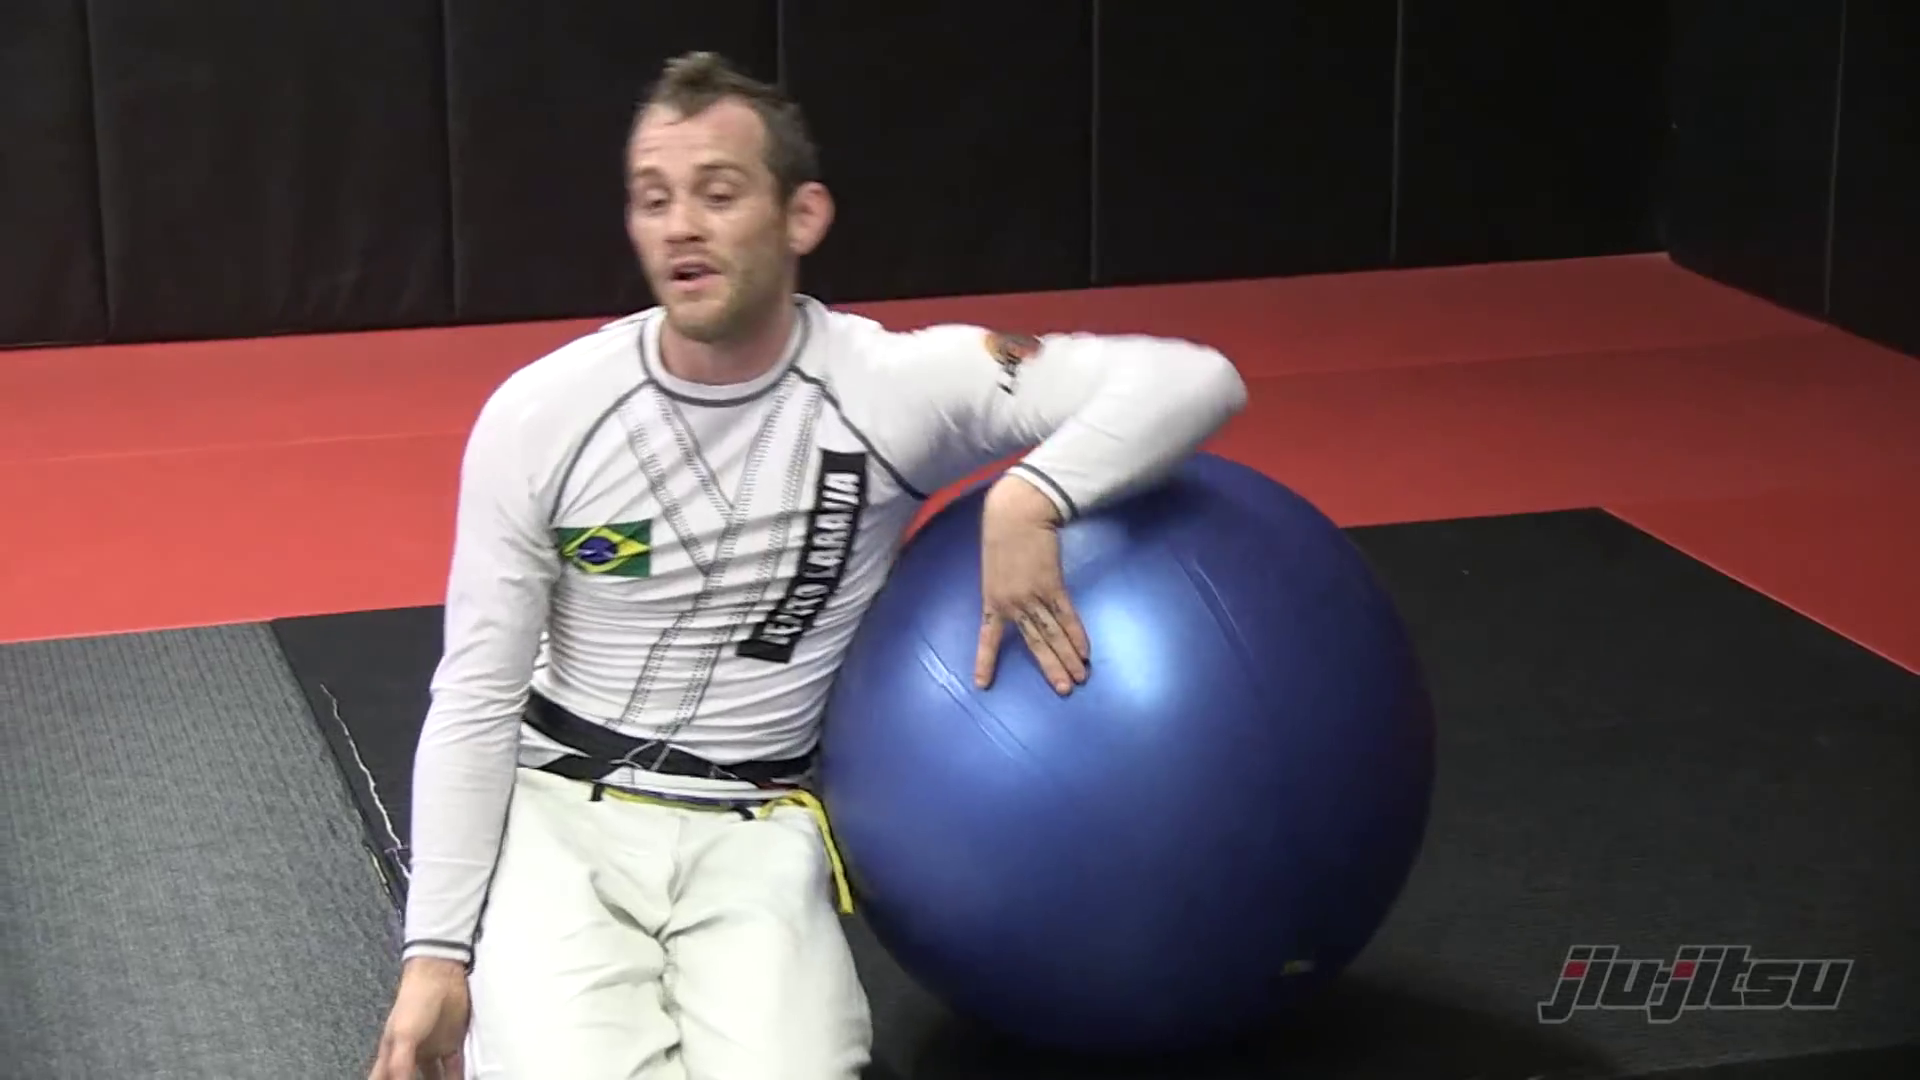yogaball: (814, 438, 1455, 1048)
